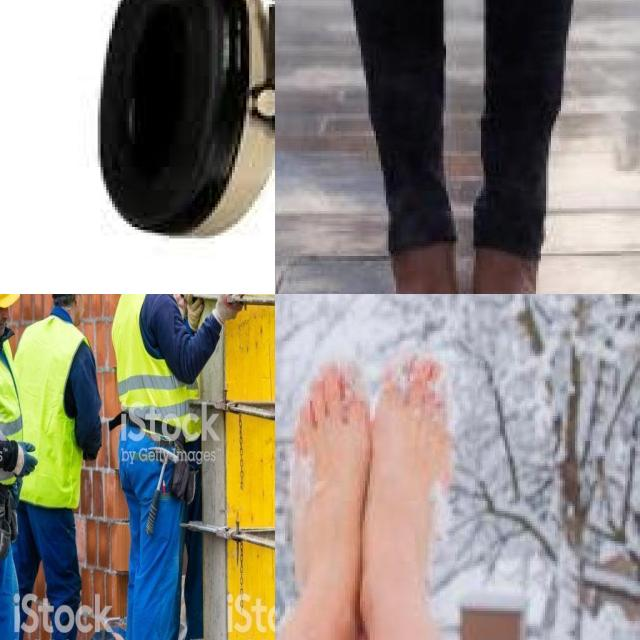Barefoots: (359, 340, 462, 640), (275, 347, 375, 640), (472, 200, 594, 294), (363, 195, 466, 294)
Ear-protection: (0, 0, 275, 232)
face_nomask: (0, 294, 11, 341)
hand_glove: (207, 294, 250, 331), (13, 436, 40, 492), (182, 294, 207, 336)
person: (111, 294, 174, 640), (31, 294, 90, 640), (148, 294, 203, 640), (0, 294, 20, 640)
vest: (22, 314, 84, 506), (114, 294, 174, 417), (0, 333, 19, 491)
